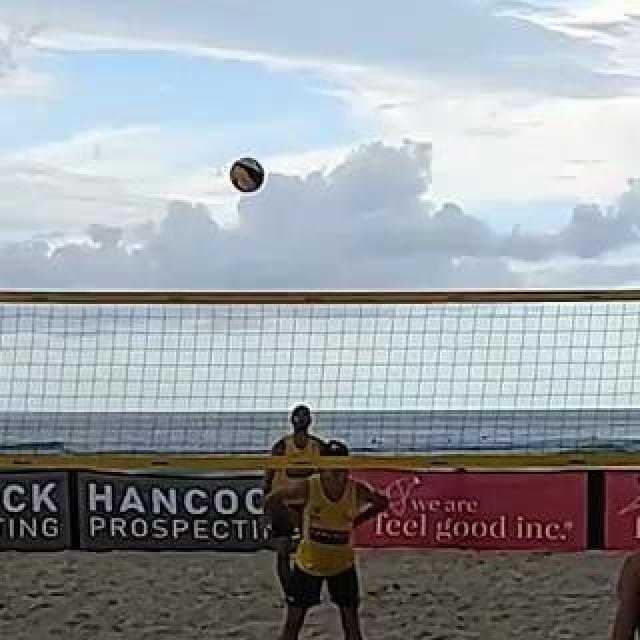volleyball: (227, 157, 265, 193)
